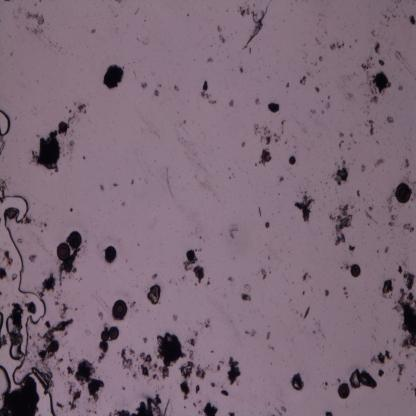Air bubble: (0, 188, 47, 327), (32, 372, 56, 416), (5, 314, 26, 360), (0, 364, 10, 401), (0, 107, 11, 136), (0, 311, 5, 334)
Background material: (1, 376, 41, 416), (74, 359, 106, 402), (30, 130, 60, 174), (396, 288, 416, 354), (328, 203, 354, 247), (114, 394, 170, 414), (156, 330, 186, 367), (58, 250, 82, 289), (30, 341, 55, 370), (252, 121, 283, 144), (392, 50, 416, 79), (294, 194, 316, 225), (349, 367, 378, 390), (65, 100, 88, 126), (102, 64, 124, 90), (307, 315, 325, 344), (227, 356, 243, 386), (10, 300, 24, 331), (39, 274, 57, 298), (120, 347, 134, 375), (146, 282, 161, 307), (361, 56, 376, 79), (370, 350, 393, 365), (289, 372, 305, 392), (54, 299, 68, 321), (179, 362, 195, 380), (334, 166, 348, 186), (67, 390, 81, 410), (258, 148, 273, 166), (193, 264, 205, 285), (180, 379, 191, 401), (402, 271, 414, 291), (200, 80, 212, 100), (26, 12, 44, 25), (381, 279, 394, 297), (382, 10, 395, 27), (195, 364, 207, 382), (336, 128, 346, 149), (65, 137, 77, 154), (3, 251, 14, 269), (396, 364, 406, 383), (0, 179, 7, 205), (31, 24, 44, 38), (203, 400, 216, 414), (58, 120, 71, 134), (364, 203, 373, 222), (273, 403, 286, 416), (268, 102, 282, 114), (402, 221, 416, 233), (201, 315, 212, 329), (329, 41, 346, 50), (138, 352, 153, 362), (275, 172, 287, 184), (217, 27, 226, 43), (368, 120, 376, 137), (344, 282, 352, 299), (298, 73, 307, 88), (245, 327, 257, 338), (320, 377, 330, 390), (65, 364, 75, 377), (0, 333, 8, 349), (6, 209, 17, 220), (87, 23, 98, 34), (301, 271, 312, 282), (315, 52, 325, 64), (370, 23, 378, 38), (241, 292, 253, 302), (373, 41, 381, 56), (56, 400, 66, 412), (388, 215, 398, 227), (162, 366, 171, 379), (260, 268, 268, 282), (230, 226, 238, 240), (216, 358, 224, 372), (141, 365, 151, 376), (239, 135, 247, 148), (408, 14, 416, 27), (370, 95, 380, 105), (288, 155, 297, 166), (193, 384, 202, 395), (404, 157, 411, 171), (0, 268, 8, 280), (188, 338, 196, 350), (24, 217, 34, 226), (204, 54, 214, 63), (378, 58, 387, 68), (182, 262, 192, 271), (348, 243, 357, 253), (209, 381, 218, 391), (374, 158, 385, 166), (354, 186, 361, 198), (377, 367, 384, 379), (257, 204, 263, 218), (29, 254, 38, 263), (254, 97, 262, 107), (388, 114, 396, 124), (15, 237, 25, 245), (140, 81, 148, 91), (224, 274, 234, 282), (360, 163, 368, 173), (220, 390, 230, 398), (238, 61, 244, 74), (283, 79, 290, 90), (315, 35, 322, 46), (324, 408, 333, 416), (171, 311, 178, 321), (228, 98, 235, 108), (264, 331, 272, 339), (313, 86, 321, 94), (384, 245, 391, 254), (324, 288, 330, 298), (143, 334, 149, 344), (343, 264, 350, 272), (153, 89, 160, 97), (112, 180, 119, 188), (397, 265, 402, 275), (349, 130, 354, 140), (324, 102, 330, 110), (265, 221, 271, 229), (174, 84, 180, 92), (99, 184, 104, 193), (398, 85, 404, 92), (81, 155, 87, 161), (302, 290, 306, 296), (69, 207, 73, 213)
Cellulose filter fibre: (241, 0, 272, 50), (36, 318, 74, 342), (0, 137, 6, 159)
Diatom: (396, 183, 412, 204), (112, 299, 128, 319), (68, 231, 82, 249), (374, 72, 388, 90), (57, 243, 70, 261), (24, 299, 38, 314), (104, 246, 117, 262), (338, 383, 350, 400), (350, 264, 362, 278), (98, 340, 110, 354), (109, 326, 119, 340), (186, 249, 196, 263), (50, 340, 60, 352), (100, 329, 109, 341), (304, 307, 310, 318)
Microfibre: (164, 166, 174, 200)
